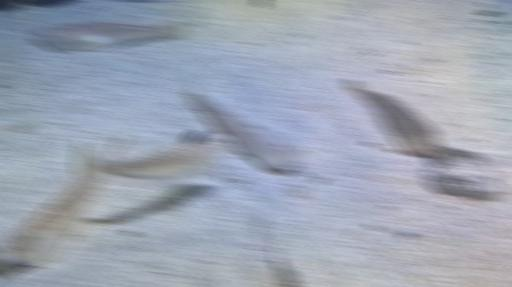Fish: (188, 85, 301, 170), (6, 174, 108, 265), (77, 132, 232, 186), (347, 79, 442, 156), (33, 20, 186, 52), (274, 248, 299, 286), (185, 130, 206, 144)
